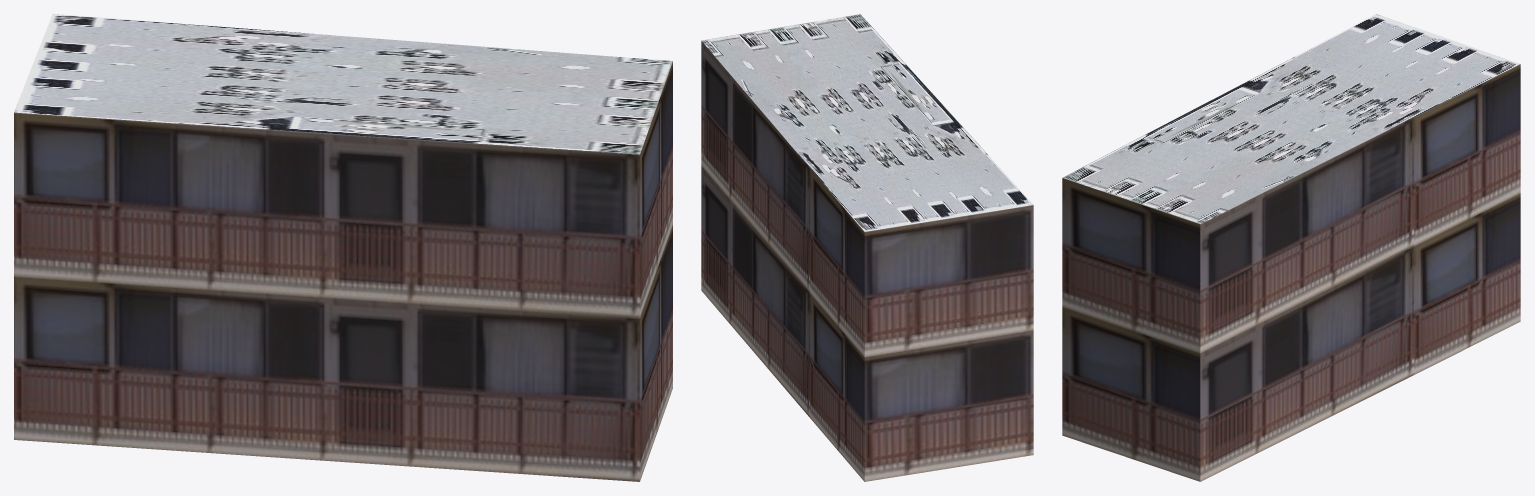
The model's file is ResTex__2327.fbx.
The picture shows the model from 3 angles, left to right: view 1: azimuth 30°, elevation 25°; view 2: azimuth 150°, elevation 25°; view 3: azimuth 270°, elevation 25°; orthographic projection. The views are drawn at different scales.
Parts seen in each view (by area): view 1: CityEngineMaterial_6_m, CityEngineMaterial_8_m; view 2: CityEngineMaterial_6_m, CityEngineMaterial_8_m; view 3: CityEngineMaterial_6_m, CityEngineMaterial_8_m.
Boxes of the visible parts, x1,y1,x2,y2 form: CityEngineMaterial_6_m: (14,61,672,481); CityEngineMaterial_8_m: (14,14,672,154); CityEngineMaterial_6_m: (701,41,1033,481); CityEngineMaterial_8_m: (701,14,1033,231); CityEngineMaterial_6_m: (1062,64,1520,481); CityEngineMaterial_8_m: (1062,14,1519,223).
Size of the model in its own units: 10.49 by 6 by 9.67.
2 materials, 2 textured.
